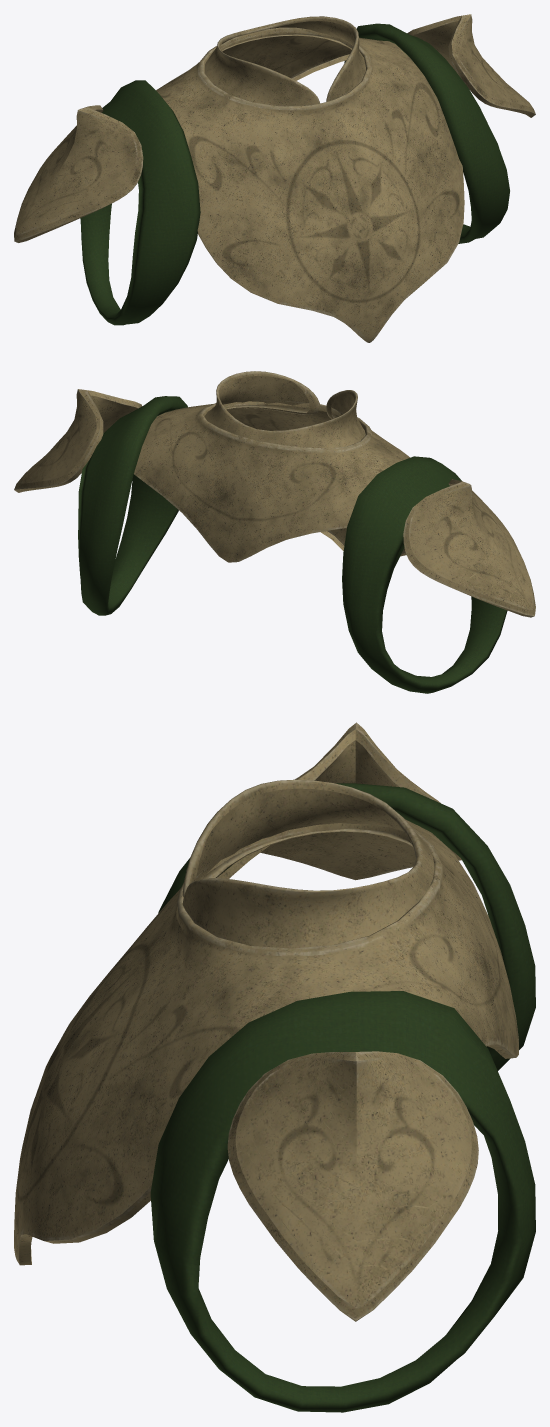
Rendered from am_golden_flower_knight_pauldrons_grey_a01.fbx.
The picture shows the model from 3 angles, top to bottom: view 1: azimuth 30°, elevation 25°; view 2: azimuth 150°, elevation 25°; view 3: azimuth 270°, elevation 25°; orthographic projection. The views are drawn at different scales.
Visible parts, largest first — view 1: am_golden_flower_knight_pauldrons_grey_a01; view 2: am_golden_flower_knight_pauldrons_grey_a01; view 3: am_golden_flower_knight_pauldrons_grey_a01.
Boxes of the visible parts, box(x1,y1,x2,y2) form: am_golden_flower_knight_pauldrons_grey_a01: box(14, 14, 535, 342); am_golden_flower_knight_pauldrons_grey_a01: box(14, 371, 535, 693); am_golden_flower_knight_pauldrons_grey_a01: box(14, 722, 535, 1412).
Bounding box in the file's own units: 0.6308 × 0.3101 × 0.286.
1 material, 1 textured.
